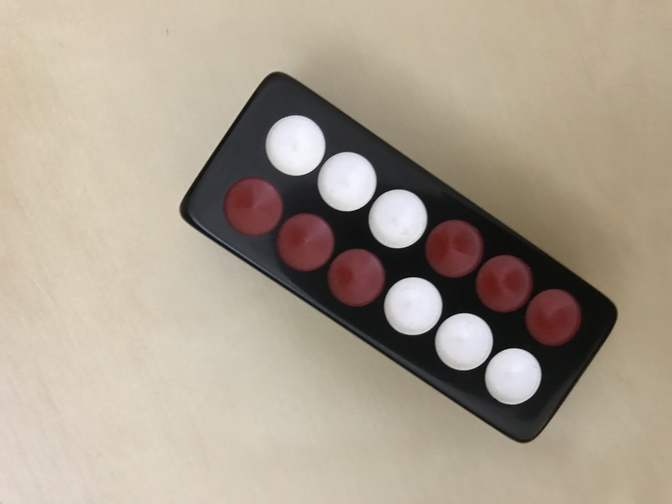heaven: (179, 71, 618, 443)
